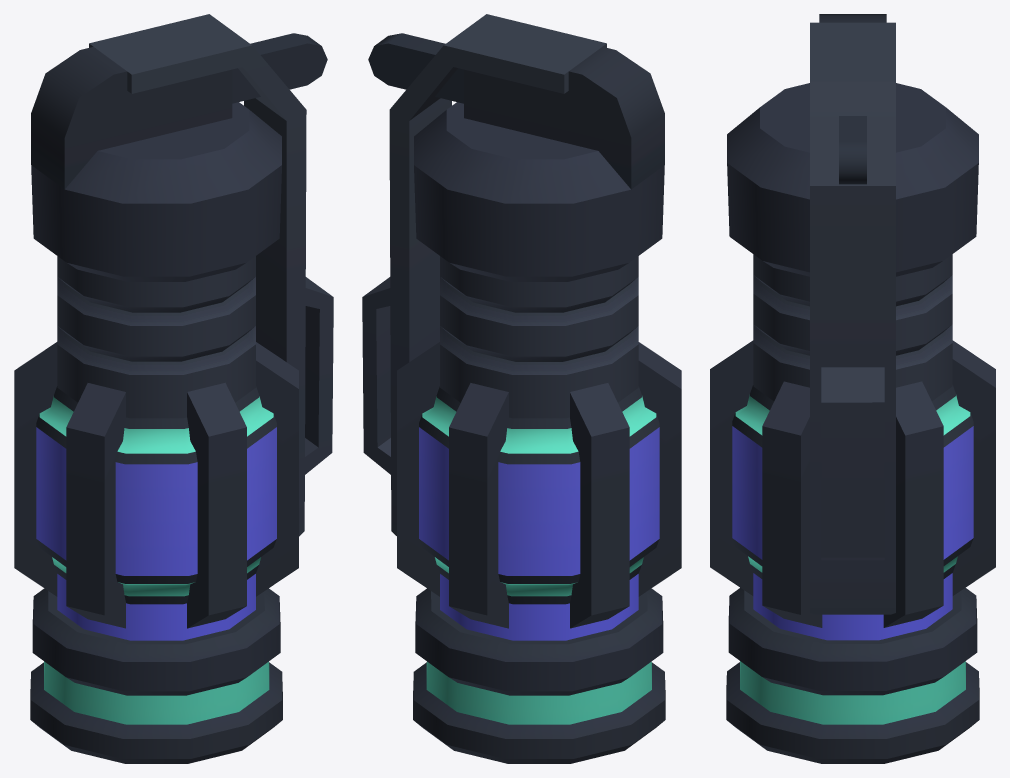
The model's file is Grenade_Flashlight_02.fbx.
3 renders of one model, left to right at view 1: azimuth 30°, elevation 25°; view 2: azimuth 150°, elevation 25°; view 3: azimuth 270°, elevation 25°, orthographic.
Visible parts, largest first — view 1: Grenade_Flashlight_02; view 2: Grenade_Flashlight_02; view 3: Grenade_Flashlight_02.
Boxes of the visible parts, x1,y1,x2,y2 form: Grenade_Flashlight_02: [14, 14, 333, 763]; Grenade_Flashlight_02: [362, 14, 681, 763]; Grenade_Flashlight_02: [710, 14, 995, 763].
Bounding box in the file's own units: 7.96 × 18.07 × 7.
